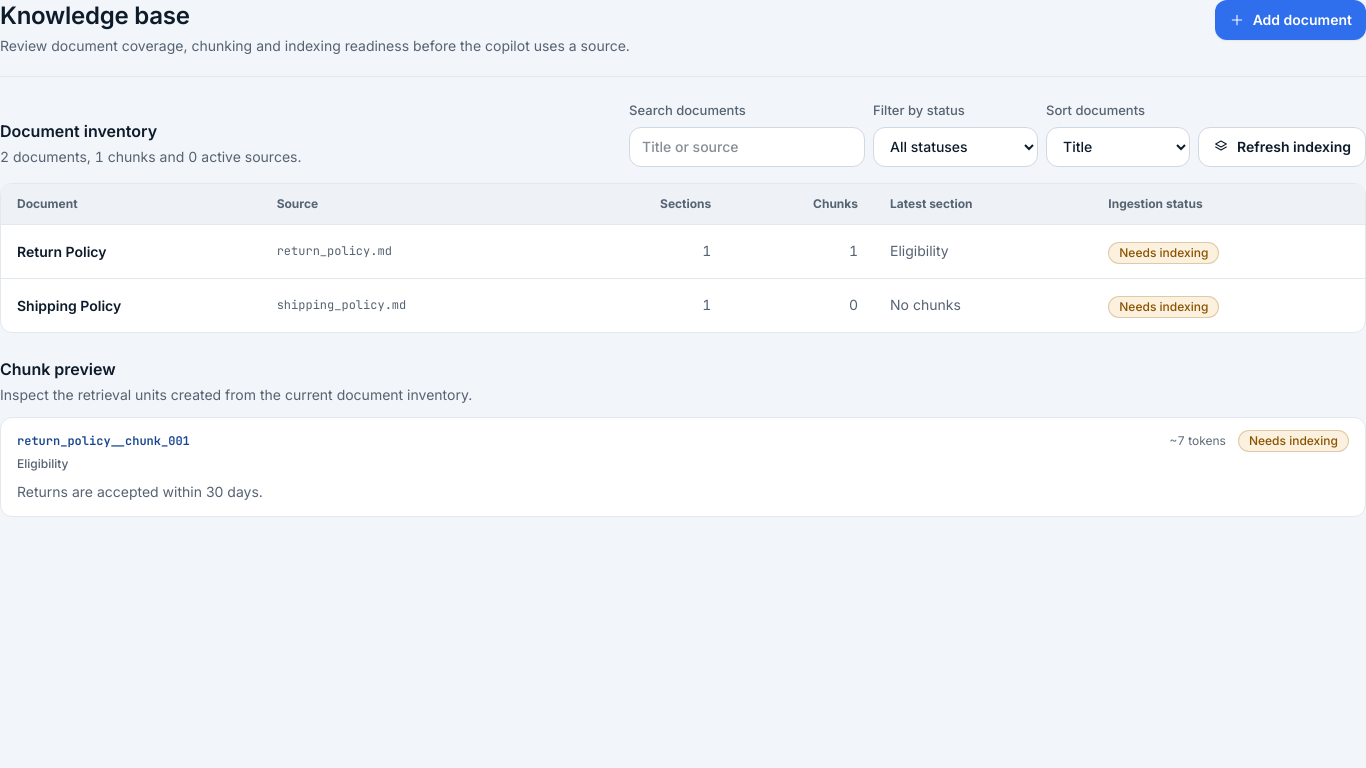
Test: KnowledgeWorkspace › marks documents and chunks as needing indexing when no embeddings exist
This screenshot has width=1366, height=768.
expect the row that starts with "Return Policy" is shown: met, box [1, 224, 1365, 278]
expect the text "return_policy__chunk_001" is shown: met, box [17, 432, 190, 448]
Click the button with aria-label "View Return Policy" at (62, 252), box [17, 242, 106, 262]
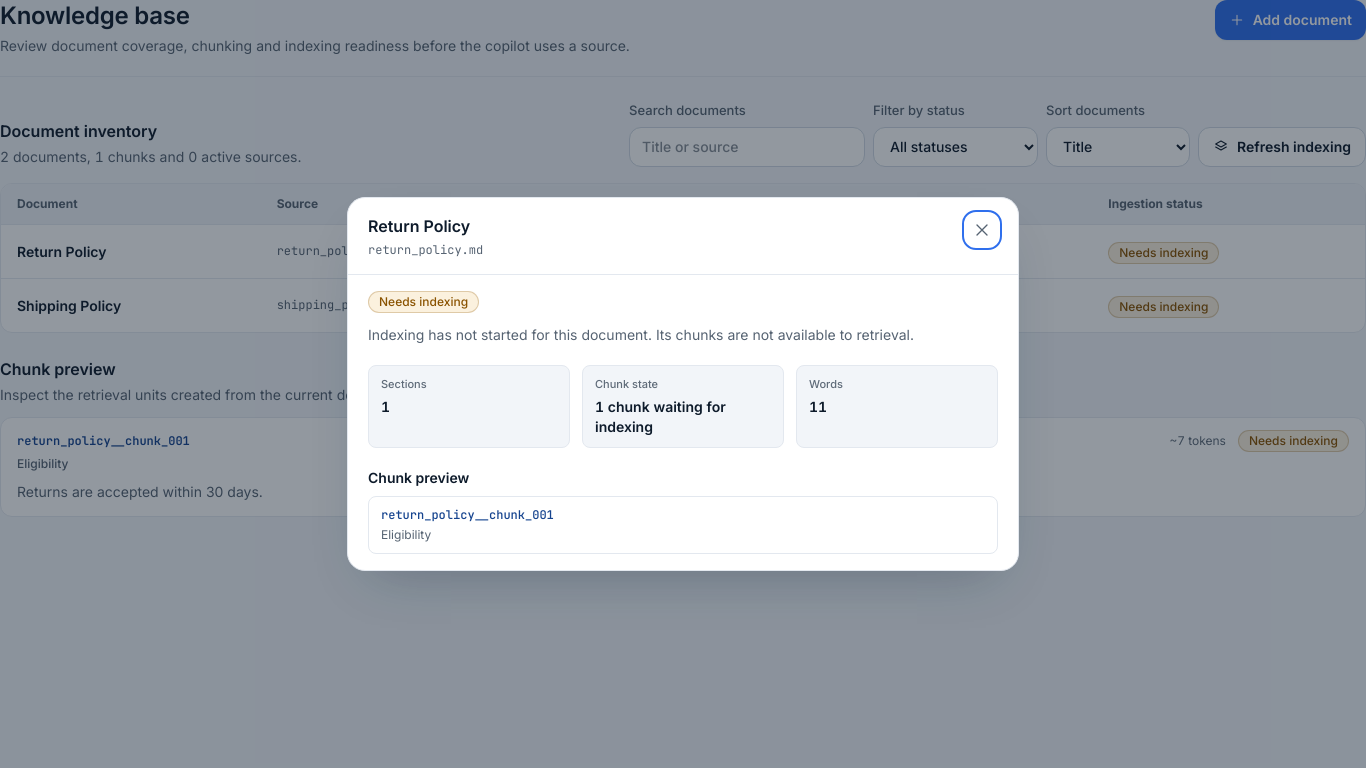
expect the text "1 chunk waiting for indexing" is shown: met, box [595, 398, 726, 435]
